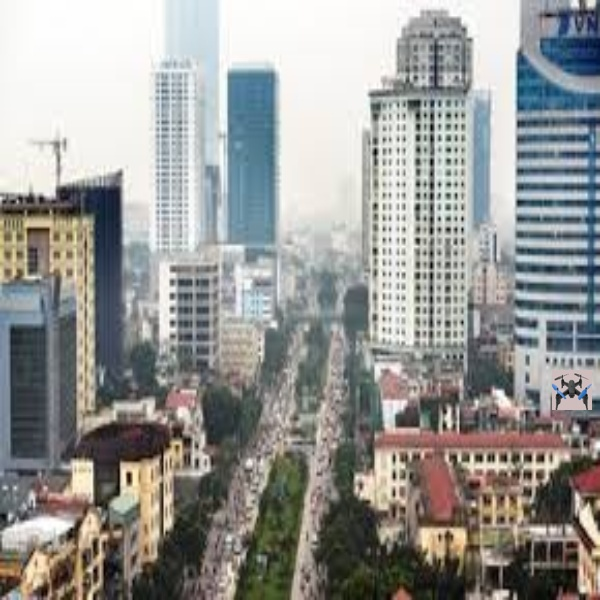drone: (543, 367, 594, 409)
